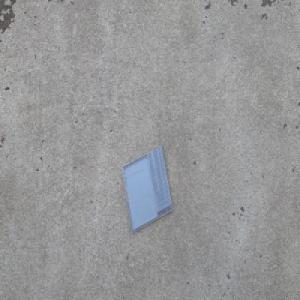PlasticPart: (120, 144, 173, 234)
